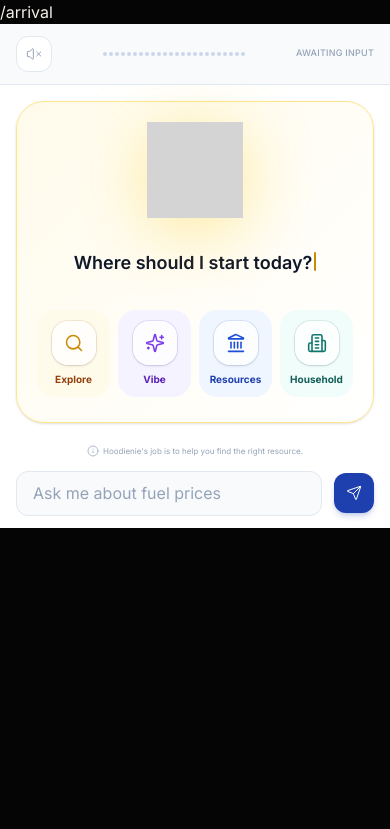
it: TriageCenter expense and timeline assistant cards › opens Household menu options and submits Bills as a preprompt
The image size is (390, 829).
Click the button "Household" at (316, 354), box [280,310,353,397]
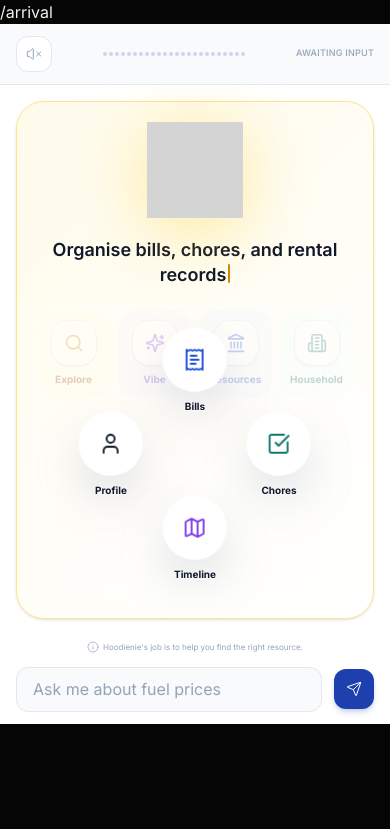
expect the menu item "Chores" is shown: met, box [233,412,325,496]
expect the menu item "Timeline" is shown: met, box [149,496,241,580]
expect the menu item "Profile" is shown: met, box [65,412,157,496]
Click the menu item "Bills" at (195, 370), box [149,328,241,412]
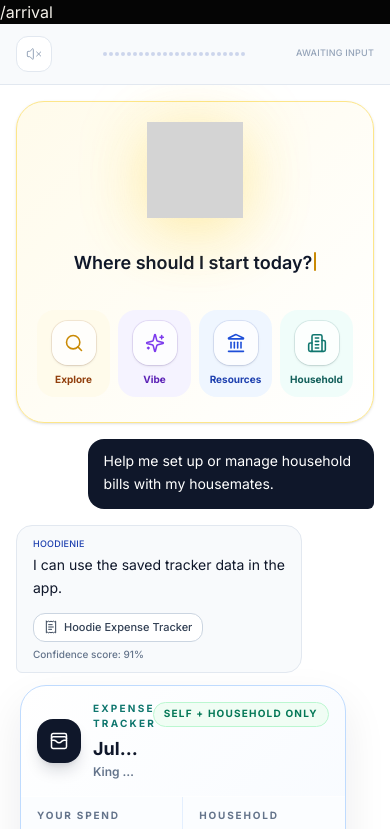
expect the text with test id "location-display" reads "/arrival": met, box [0,2,53,22]
expect the text "Help me set up or manage household bills with my housemates." is shown: met, box [104,451,358,496]
